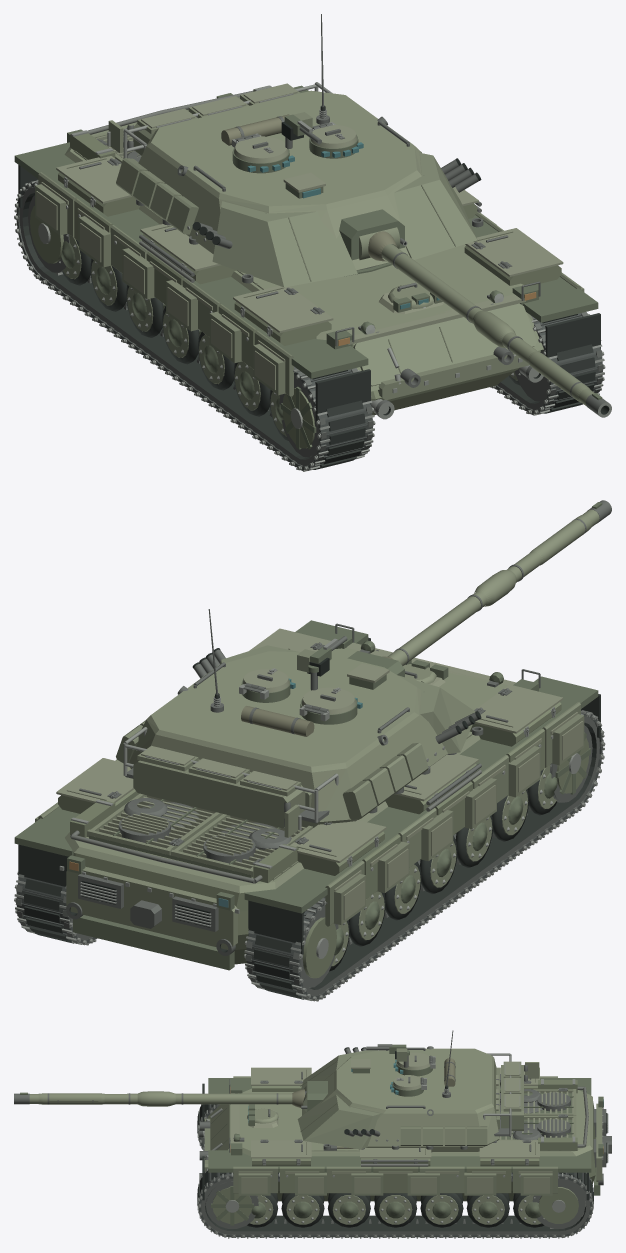
File: spheres-tank-heavy.glb
3 views of the same model, one above another, from view 1: azimuth 30°, elevation 25°; view 2: azimuth 150°, elevation 25°; view 3: azimuth 270°, elevation 25° (orthographic). The views are drawn at different scales.
Visible parts, largest first — view 1: Spheres heavy tank; view 2: Spheres heavy tank; view 3: Spheres heavy tank.
Part boxes in pixels (<box>): Spheres heavy tank: <box>14,14,611,471</box>; Spheres heavy tank: <box>14,500,611,1001</box>; Spheres heavy tank: <box>14,1030,611,1238</box>.
Bounding box in the file's own units: 4.37 × 3.81 × 11.36.
